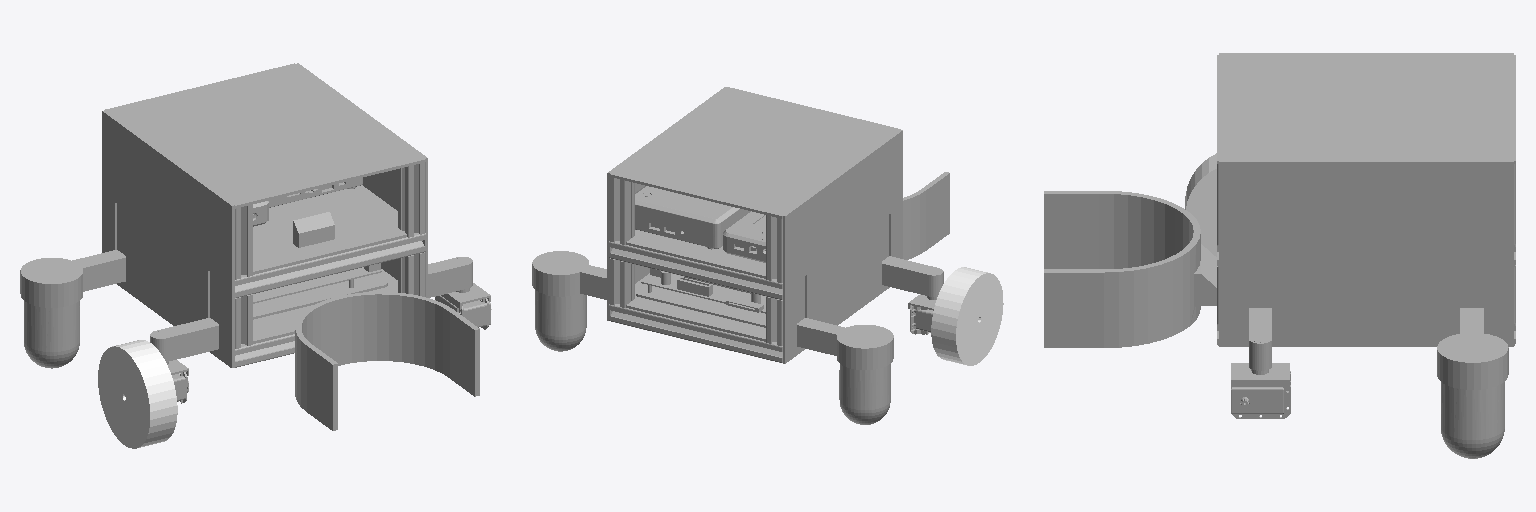
URDF robot description (modelball):
<?xml version="1.0" encoding="utf-8"?>
<!-- This URDF was automatically created by SolidWorks to URDF Exporter! Originally created by [author] ([email redacted]) 
     Commit Version: 1.5.1-0-g916b5db  Build Version: 1.5.7152.31018
     For more information, please see http://wiki.ros.org/sw_urdf_exporter -->
<robot
  name="modelball">
  <link
    name="base_link">
    <inertial>
      <origin
        xyz="0.10892 0.084724 -0.1234"
        rpy="0 0 0" />
      <mass
        value="3.9012" />
      <inertia
        ixx="0.018624"
        ixy="-3.3179E-07"
        ixz="-1.4657E-06"
        iyy="0.017916"
        iyz="-8.0651E-06"
        izz="0.0087528" />
    </inertial>
    <visual>
      <origin
        xyz="0 0 0"
        rpy="0 0 0" />
      <geometry>
        <mesh
          filename="package://modelball/meshes/base_link.STL" />
      </geometry>
      <material
        name="">
        <color
          rgba="0.75294 0.75294 0.75294 1" />
      </material>
    </visual>
    <collision>
      <origin
        xyz="0 0 0"
        rpy="0 0 0" />
      <geometry>
        <mesh
          filename="package://modelball/meshes/base_link.STL" />
      </geometry>
    </collision>
  </link>
  <link
    name="LFS">
    <inertial>
      <origin
        xyz="-0.062831 0.017418 0.0073567"
        rpy="0 0 0" />
      <mass
        value="0.26437" />
      <inertia
        ixx="6.2915E-05"
        ixy="2.9641E-09"
        ixz="1.6485E-08"
        iyy="6.2207E-05"
        iyz="1.5645E-07"
        izz="3.2075E-05" />
    </inertial>
    <visual>
      <origin
        xyz="0 0 0"
        rpy="0 0 0" />
      <geometry>
        <mesh
          filename="package://modelball/meshes/LFS.STL" />
      </geometry>
      <material
        name="">
        <color
          rgba="0.75294 0.75294 0.75294 1" />
      </material>
    </visual>
    <collision>
      <origin
        xyz="0 0 0"
        rpy="0 0 0" />
      <geometry>
        <mesh
          filename="package://modelball/meshes/LFS.STL" />
      </geometry>
    </collision>
  </link>
  <joint
    name="LFS"
    type="fixed">
    <origin
      xyz="0.24112 0.018826 -0.047137"
      rpy="0 1.5708 0" />
    <parent
      link="base_link" />
    <child
      link="LFS" />
    <axis
      xyz="0 0 0" />
  </joint>
  <link
    name="LFW">
    <inertial>
      <origin
        xyz="0.015 1.7347E-18 0"
        rpy="0 0 0" />
      <mass
        value="0.23932" />
      <inertia
        ixx="0.00030041"
        ixy="-7.4938E-37"
        ixz="5.467E-37"
        iyy="0.00016815"
        iyz="-1.685E-36"
        izz="0.00016815" />
    </inertial>
    <visual>
      <origin
        xyz="0 0 0"
        rpy="0 0 0" />
      <geometry>
        <mesh
          filename="package://modelball/meshes/LFW.STL" />
      </geometry>
      <material
        name="">
        <color
          rgba="1 1 1 1" />
      </material>
    </visual>
    <collision>
      <origin
        xyz="0 0 0"
        rpy="0 0 0" />
      <geometry>
        <mesh
          filename="package://modelball/meshes/LFW.STL" />
      </geometry>
    </collision>
  </link>
  <joint
    name="LFW"
    type="continuous">
    <origin
      xyz="-0.032336 0.0046744 0.050633"
      rpy="1.5708 -1.5708 0" />
    <parent
      link="LFS" />
    <child
      link="LFW" />
    <axis
      xyz="1 0 0" />
    <limit
      effort="3.1"
      velocity="7" />
  </joint>
  <link
    name="RFS">
    <inertial>
      <origin
        xyz="-0.062822 0.017931 0.0073567"
        rpy="0 0 0" />
      <mass
        value="0.26437" />
      <inertia
        ixx="6.2915E-05"
        ixy="2.9641E-09"
        ixz="-1.6485E-08"
        iyy="6.2207E-05"
        iyz="-1.5645E-07"
        izz="3.2075E-05" />
    </inertial>
    <visual>
      <origin
        xyz="0 0 0"
        rpy="0 0 0" />
      <geometry>
        <mesh
          filename="package://modelball/meshes/RFS.STL" />
      </geometry>
      <material
        name="">
        <color
          rgba="0.75294 0.75294 0.75294 1" />
      </material>
    </visual>
    <collision>
      <origin
        xyz="0 0 0"
        rpy="0 0 0" />
      <geometry>
        <mesh
          filename="package://modelball/meshes/RFS.STL" />
      </geometry>
    </collision>
  </link>
  <joint
    name="RFS"
    type="fixed">
    <origin
      xyz="-0.025117 0.054174 -0.047137"
      rpy="3.1416 1.5708 0" />
    <parent
      link="base_link" />
    <child
      link="RFS" />
    <axis
      xyz="0 0 0" />
  </joint>
  <link
    name="RFW">
    <inertial>
      <origin
        xyz="-0.015 0 3.4694E-18"
        rpy="0 0 0" />
      <mass
        value="0.23932" />
      <inertia
        ixx="0.00030041"
        ixy="-2.0702E-37"
        ixz="1.0972E-36"
        iyy="0.00016815"
        iyz="0"
        izz="0.00016815" />
    </inertial>
    <visual>
      <origin
        xyz="0 0 0"
        rpy="0 0 0" />
      <geometry>
        <mesh
          filename="package://modelball/meshes/RFW.STL" />
      </geometry>
      <material
        name="">
        <color
          rgba="1 1 1 1" />
      </material>
    </visual>
    <collision>
      <origin
        xyz="0 0 0"
        rpy="0 0 0" />
      <geometry>
        <mesh
          filename="package://modelball/meshes/RFW.STL" />
      </geometry>
    </collision>
  </link>
  <joint
    name="RFW"
    type="continuous">
    <origin
      xyz="-0.032338 0.030674 0.050633"
      rpy="1.64 1.5708 0" />
    <parent
      link="RFS" />
    <child
      link="RFW" />
    <axis
      xyz="1 0 0" />
    <limit
      effort="3.1"
      velocity="7" />
  </joint>
  <link
    name="LBS">
    <inertial>
      <origin
        xyz="0.00234157571377347 0.0116051947593452 0.136039283518417"
        rpy="0 0 0" />
      <mass
        value="0.18193357253929" />
      <inertia
        ixx="0.000158415198867683"
        ixy="3.54095934938036E-07"
        ixz="-1.55805387181185E-20"
        iyy="0.000187903911280684"
        iyz="-1.3716558031973E-19"
        izz="0.000106956315729353" />
    </inertial>
    <visual>
      <origin
        xyz="0 0 0"
        rpy="0 0 0" />
      <geometry>
        <mesh
          filename="package://modelball/meshes/LBS.STL" />
      </geometry>
      <material
        name="">
        <color
          rgba="0.752941176470588 0.752941176470588 0.752941176470588 1" />
      </material>
    </visual>
    <collision>
      <origin
        xyz="0 0 0"
        rpy="0 0 0" />
      <geometry>
        <mesh
          filename="package://modelball/meshes/LBS.STL" />
      </geometry>
    </collision>
  </link>
  <joint
    name="LBS"
    type="fixed">
    <origin
      xyz="0.28235 0.22575 0.13301"
      rpy="3.1416 0 0" />
    <parent
      link="base_link" />
    <child
      link="LBS" />
    <axis
      xyz="0 0 0" />
  </joint>
  <link
    name="RBS">
    <inertial>
      <origin
        xyz="0.00234157571377311 0.0116051947593452 0.136039283518417"
        rpy="0 0 0" />
      <mass
        value="0.18193357253929" />
      <inertia
        ixx="0.000158415198867683"
        ixy="3.54095934938048E-07"
        ixz="5.31879342759713E-20"
        iyy="0.000187903911280684"
        iyz="-7.4101397449533E-20"
        izz="0.000106956315729353" />
    </inertial>
    <visual>
      <origin
        xyz="0 0 0"
        rpy="0 0 0" />
      <geometry>
        <mesh
          filename="package://modelball/meshes/RBS.STL" />
      </geometry>
      <material
        name="">
        <color
          rgba="0.752941176470588 0.752941176470588 0.752941176470588 1" />
      </material>
    </visual>
    <collision>
      <origin
        xyz="0 0 0"
        rpy="0 0 0" />
      <geometry>
        <mesh
          filename="package://modelball/meshes/RBS.STL" />
      </geometry>
    </collision>
  </link>
  <joint
    name="RBS"
    type="fixed">
    <origin
      xyz="-0.06635 0.20125 0.13301"
      rpy="-3.1416 0 3.1416" />
    <parent
      link="base_link" />
    <child
      link="RBS" />
    <axis
      xyz="0 0 0" />
  </joint>
  <link
    name="fcam">
    <inertial>
      <origin
        xyz="0.049836 0.061784 0.068723"
        rpy="0 0 0" />
      <mass
        value="0.043612" />
      <inertia
        ixx="4.2948E-06"
        ixy="-8.8579E-10"
        ixz="-1.0181E-09"
        iyy="2.2106E-05"
        iyz="2.1758E-08"
        izz="2.3571E-05" />
    </inertial>
    <visual>
      <origin
        xyz="0 0 0"
        rpy="0 0 0" />
      <geometry>
        <mesh
          filename="package://modelball/meshes/fcam.STL" />
      </geometry>
      <material
        name="">
        <color
          rgba="0.79216 0.81961 0.93333 1" />
      </material>
    </visual>
    <collision>
      <origin
        xyz="0 0 0"
        rpy="0 0 0" />
      <geometry>
        <mesh
          filename="package://modelball/meshes/fcam.STL" />
      </geometry>
    </collision>
  </link>
  <joint
    name="fcam"
    type="fixed">
    <origin
      xyz="0.058161 0.080277 0.092507"
      rpy="1.5708 0 0" />
    <parent
      link="base_link" />
    <child
      link="fcam" />
    <axis
      xyz="0 0 0" />
  </joint>
  <link
    name="bcam">
    <inertial>
      <origin
        xyz="0.0498359970623517 0.0617836354899649 0.0687226594771383"
        rpy="0 0 0" />
      <mass
        value="0.0436119949785285" />
      <inertia
        ixx="4.29479078276668E-06"
        ixy="-8.85484503922341E-10"
        ixz="-1.0183475801414E-09"
        iyy="2.21058144654637E-05"
        iyz="2.17579332532664E-08"
        izz="2.35707056099599E-05" />
    </inertial>
    <visual>
      <origin
        xyz="0 0 0"
        rpy="0 0 0" />
      <geometry>
        <mesh
          filename="package://modelball/meshes/bcam.STL" />
      </geometry>
      <material
        name="">
        <color
          rgba="0.792156862745098 0.819607843137255 0.933333333333333 1" />
      </material>
    </visual>
    <collision>
      <origin
        xyz="0 0 0"
        rpy="0 0 0" />
      <geometry>
        <mesh
          filename="package://modelball/meshes/bcam.STL" />
      </geometry>
    </collision>
  </link>
  <joint
    name="bcam"
    type="fixed">
    <origin
      xyz="0.058161 0.11013 0.12322"
      rpy="2.3562 0 0" />
    <parent
      link="base_link" />
    <child
      link="bcam" />
    <axis
      xyz="0 0 0" />
  </joint>
  <link
    name="Lidar">
    <inertial>
      <origin
        xyz="-0.078493 -0.74443 -0.13345"
        rpy="0 0 0" />
      <mass
        value="0.073085" />
      <inertia
        ixx="1.9581E-05"
        ixy="4.2839E-07"
        ixz="-1.0393E-07"
        iyy="4.1418E-05"
        iyz="-9.4271E-09"
        izz="2.4125E-05" />
    </inertial>
    <visual>
      <origin
        xyz="0 0 0"
        rpy="0 0 0" />
      <geometry>
        <mesh
          filename="package://modelball/meshes/Lidar.STL" />
      </geometry>
      <material
        name="">
        <color
          rgba="0.79216 0.81961 0.93333 1" />
      </material>
    </visual>
    <collision>
      <origin
        xyz="0 0 0"
        rpy="0 0 0" />
      <geometry>
        <mesh
          filename="package://modelball/meshes/Lidar.STL" />
      </geometry>
    </collision>
  </link>
  <joint
    name="Lidar"
    type="fixed">
    <origin
      xyz="0.24092 0.09856 -0.54869"
      rpy="-1.5708 0 -1.5708" />
    <parent
      link="base_link" />
    <child
      link="Lidar" />
    <axis
      xyz="0 0 0" />
  </joint>
</robot>

--- Facts derived from the render (not from the file) ---
3 views of the same robot in one strip: view 1: azimuth 30°, elevation 25°; view 2: azimuth 150°, elevation 25°; view 3: azimuth 270°, elevation 25° (orthographic).
Robot: modelball — 10 links, 9 joints (2 continuous, 7 fixed); root link base_link; default pose: every joint at zero.
Links seen in each view (by area): view 1: base_link, RBS, RFW, LFS, RFS; view 2: base_link, RBS, RFW, LBS, RFS; view 3: base_link, LBS, LFS, RFW.
Link boxes in pixels (x1,y1,x2,y2): base_link: [102, 63, 479, 430]; RBS: [20, 250, 125, 368]; RFW: [98, 340, 177, 448]; LFS: [428, 257, 491, 329]; RFS: [150, 318, 218, 403]; base_link: [607, 87, 949, 363]; RBS: [797, 318, 893, 424]; RFW: [931, 267, 1003, 365]; LBS: [532, 251, 606, 351]; RFS: [882, 256, 943, 334]; base_link: [1044, 53, 1515, 347]; LBS: [1437, 308, 1508, 458]; LFS: [1231, 308, 1290, 418]; RFW: [1185, 153, 1216, 256].
Bounding box of the posed robot: 0.428 × 0.3943 × 0.2358 m (x, y, z).
Meshes: 10 distinct files referenced, 6 mesh visuals loaded (6 binary STL); not drawn: 4 (reference not matched to a file when rendering).